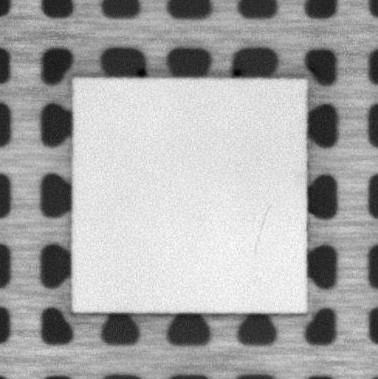DIE_CRACK: (253, 204, 271, 253)
